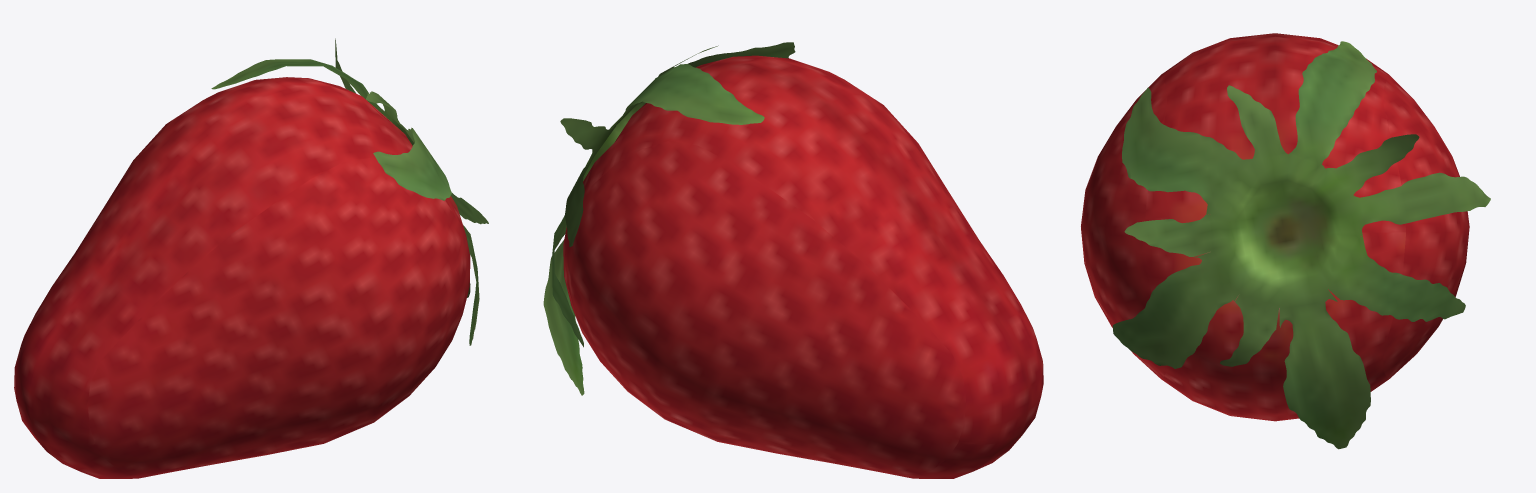
Rendered from Strawberry.fbx.
3 views of the same model, side by side, from view 1: azimuth 30°, elevation 25°; view 2: azimuth 150°, elevation 25°; view 3: azimuth 270°, elevation 25° (orthographic). The views are drawn at different scales.
Visible parts, largest first — view 1: Strawberry_LOD0; view 2: Strawberry_LOD0; view 3: Strawberry_LOD0.
Boxes of the visible parts, x1,y1,x2,y2 form: Strawberry_LOD0: (14, 38, 488, 478); Strawberry_LOD0: (543, 42, 1043, 478); Strawberry_LOD0: (1081, 33, 1490, 449).
Size of what is drawn, in the model's own units: 0.039 by 0.0318 by 0.034.
